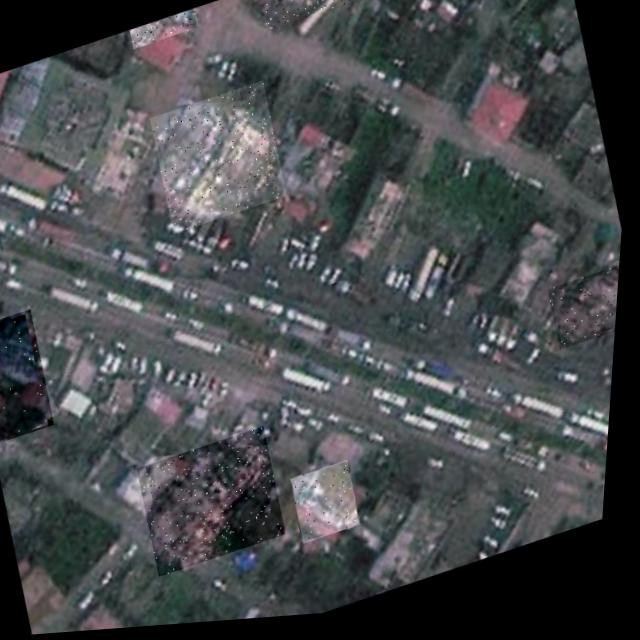Rubble: (138, 429, 299, 582), (145, 82, 296, 238), (0, 307, 66, 446), (293, 464, 371, 549), (548, 272, 624, 359), (254, 0, 406, 35), (129, 10, 200, 50)
